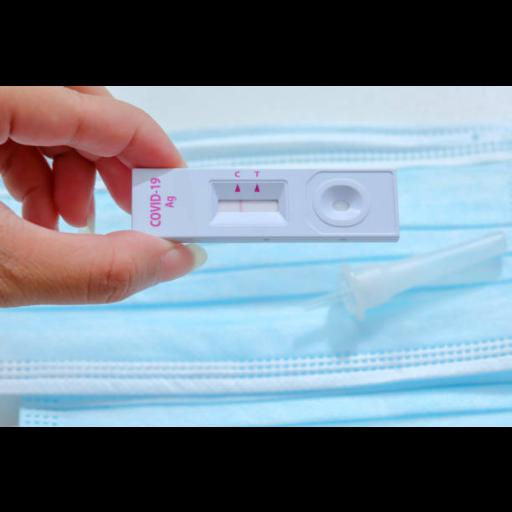Neg: (132, 166, 398, 236)
